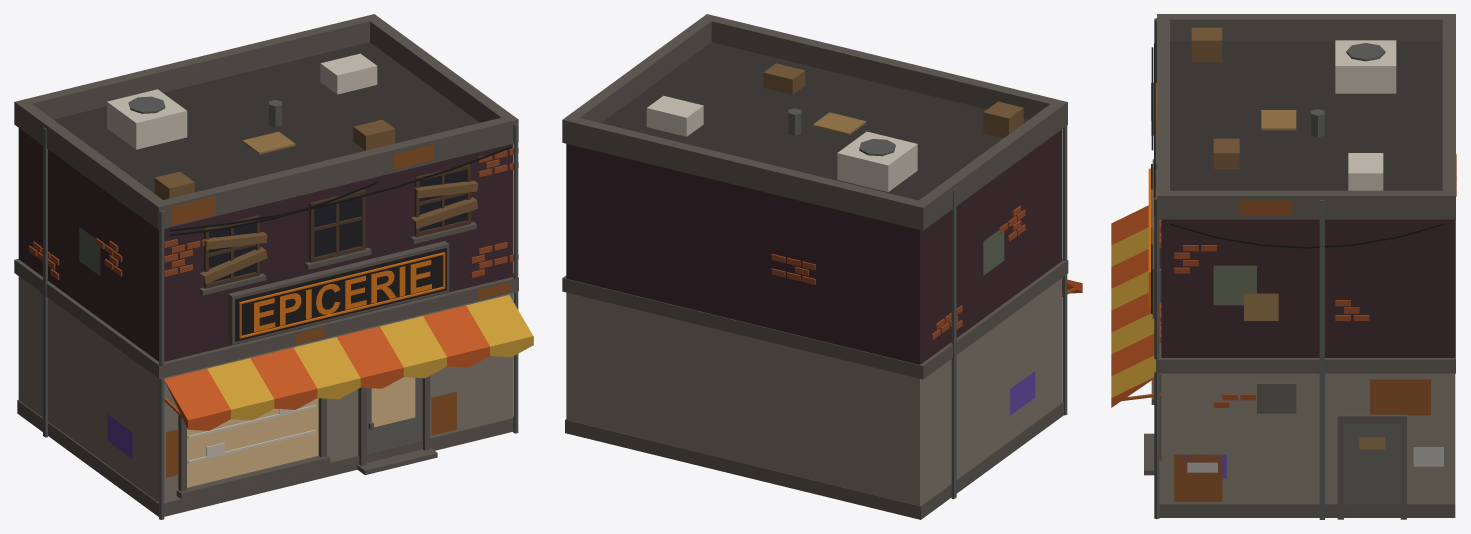
Rendered from epicerie_batiment.glb.
3 renders of one model, left to right at view 1: azimuth 30°, elevation 25°; view 2: azimuth 150°, elevation 25°; view 3: azimuth 270°, elevation 25°, orthographic. The views are drawn at different scales.
Parts seen in each view (by area): view 1: epicerie_batiment; view 2: epicerie_batiment; view 3: epicerie_batiment.
Boxes of the visible parts, left/top/right/bottom form: epicerie_batiment: left=14, top=14, right=533, bottom=519; epicerie_batiment: left=562, top=14, right=1082, bottom=519; epicerie_batiment: left=1111, top=14, right=1456, bottom=519.
Size of the model in its own units: 9.96 by 8.4 by 7.94.
